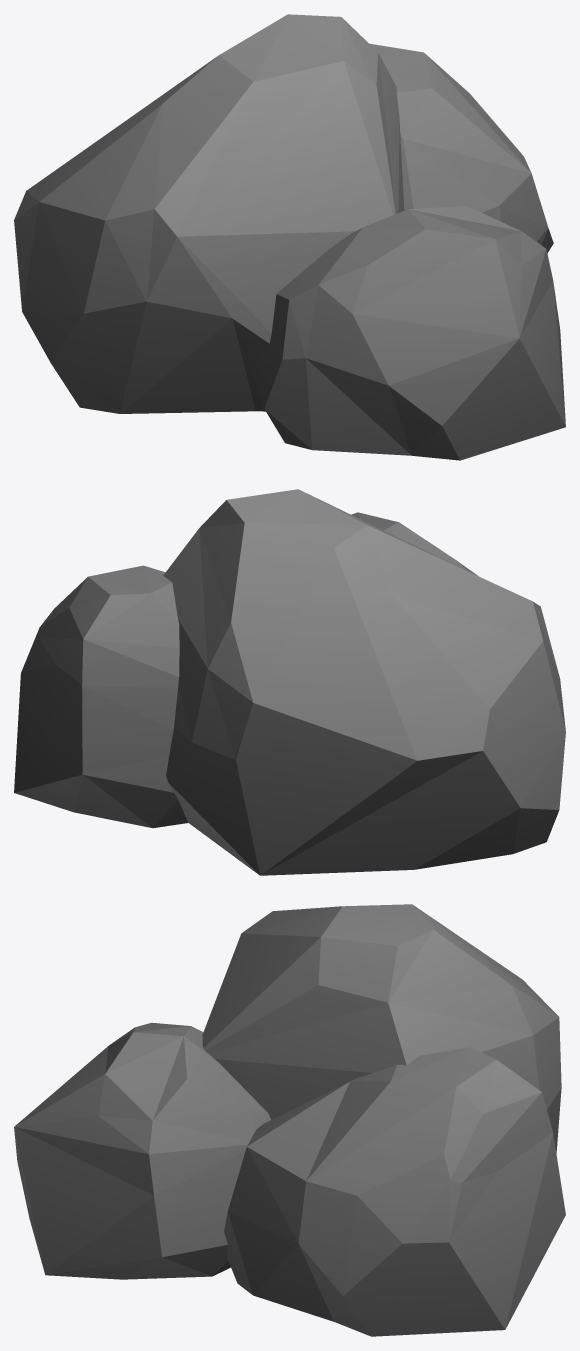
File: Env_Rock_03.obj
The picture shows the model from 3 angles, top to bottom: view 1: azimuth 30°, elevation 25°; view 2: azimuth 150°, elevation 25°; view 3: azimuth 270°, elevation 25°; orthographic projection. The views are drawn at different scales.
Visible parts, largest first — view 1: Env_Rock_03; view 2: Env_Rock_03; view 3: Env_Rock_03.
Part boxes in pixels (box(x1,y1,x2,y2)): Env_Rock_03: box(14, 14, 565, 460); Env_Rock_03: box(14, 489, 565, 875); Env_Rock_03: box(14, 904, 565, 1336).
Bounding box in the file's own units: 1.75 × 0.9927 × 1.64.
1 material, 1 textured.
